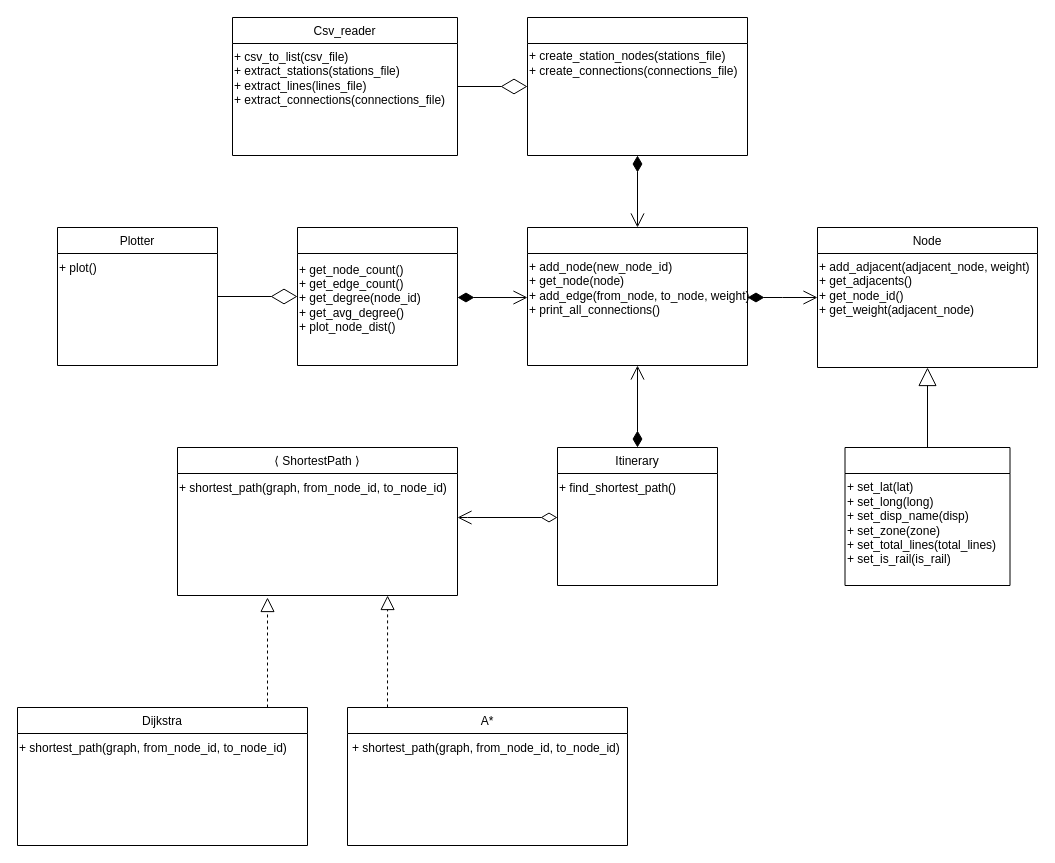
Image size: 1055x863. Some labels were removed from this diagram. Here are the shapes that lost their labels. From the top down, the box of each, then its label:
(526, 16, 748, 156): Graph_builder
(296, 226, 458, 366): Metric_Extractor
(526, 226, 748, 366): Graph
(844, 446, 1010, 586): Station_Node
